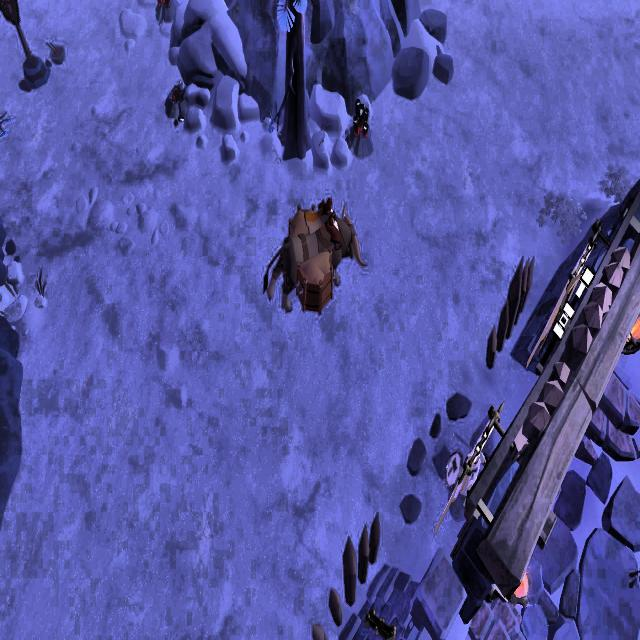ore_t5: (352, 95, 371, 141)
